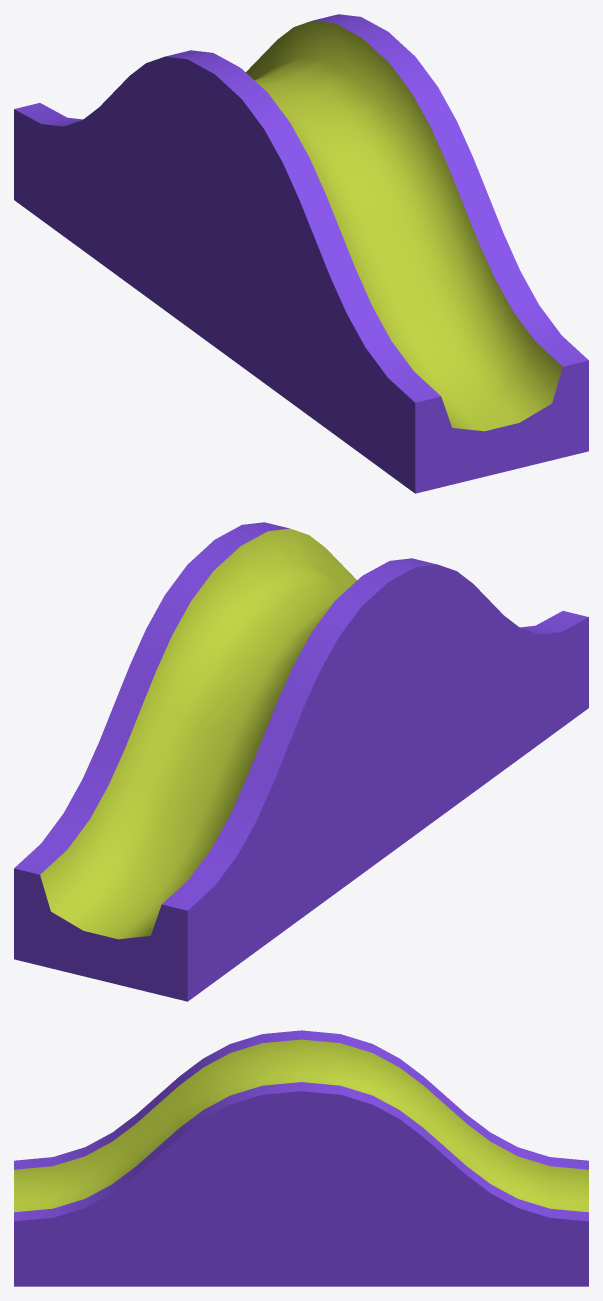
The model's file is bump_solid_C-col.dae.
3 renders of one model, top to bottom at view 1: azimuth 30°, elevation 25°; view 2: azimuth 150°, elevation 25°; view 3: azimuth 270°, elevation 25°, orthographic. The views are drawn at different scales.
Visible parts, largest first — view 1: bump_solid_C-col; view 2: bump_solid_C-col; view 3: bump_solid_C-col.
Boxes of the visible parts, bbox=[...] form: bump_solid_C-col: bbox=[14, 14, 588, 493]; bump_solid_C-col: bbox=[14, 522, 588, 1001]; bump_solid_C-col: bbox=[14, 1030, 588, 1286].
Size of the model in its own units: 1 by 4 by 1.5.
